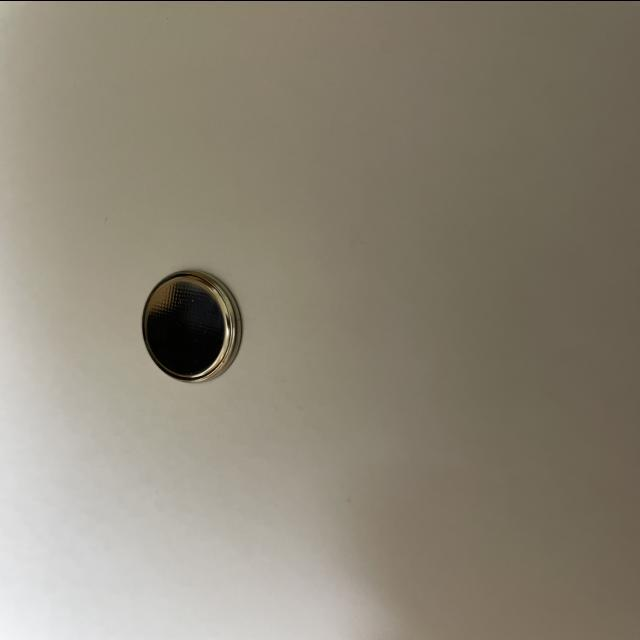COIN: (140, 268, 244, 384)
